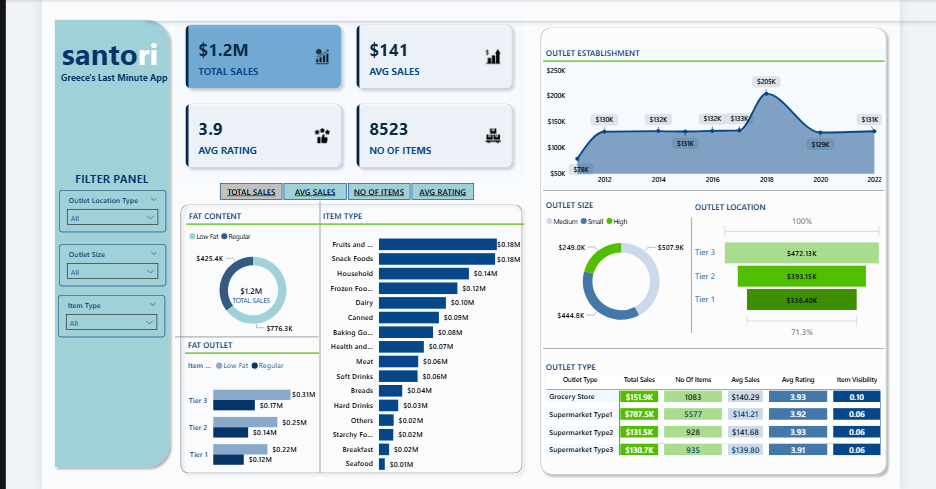

The page's visual inventory and layout, read from the dashboard file:
{"tool":"powerbi","page":{"name":"Page 1","canvas":[1400,800],"ordinal":0},"visuals":[{"type":"shape","box":[11.4,24.5,205.7,749.4],"z":0},{"type":"textbox","box":[27.8,50.6,189.4,75.1],"z":1000},{"type":"textbox","box":[264,24,206,749],"z":2000},{"type":"textbox","box":[26.1,112.7,207.3,32.7],"z":3000},{"type":"cardVisual","fields":{"Data":["BlinkIT Grocery Data.TOTAL SALES","BlinkIT Grocery Data.AVG SALES","BlinkIT Grocery Data.AVG RATING","BlinkIT Grocery Data.NO OF ITEMS"]},"box":[217.1,24.5,569.8,269.4],"z":4000},{"type":"shape","box":[804.9,37.6,582.9,747.8],"z":5000},{"type":"donutChart","title":"FAT CONTENT","fields":{"Y":["BlinkIT Grocery Data.TOTAL SALES"],"Category":["BlinkIT Grocery Data.Item Fat Content"]},"box":[235.1,344.5,218.8,210.6],"z":6000},{"type":"slicer","fields":{"Values":["Metrics.Metrics"]},"box":[264.5,293.9,465,40],"z":7000},{"type":"cardVisual","fields":{"Data":["BlinkIT Grocery Data.TOTAL SALES"]},"box":[279.2,419.6,125.7,98],"z":8000},{"type":"clusteredBarChart","title":"FAT OUTLET","fields":{"Y":["BlinkIT Grocery Data.TOTAL SALES"],"Category":["BlinkIT Grocery Data.Outlet Location Type"],"Series":["BlinkIT Grocery Data.Item Fat Content"]},"box":[233.5,555.1,218.8,230.2],"z":9000},{"type":"shape","box":[437.6,329.8,32.7,444.1],"z":10000},{"type":"barChart","title":"ITEM TYPE","fields":{"Y":["BlinkIT Grocery Data.TOTAL SALES"],"Category":["BlinkIT Grocery Data.Item Type"]},"box":[453.9,344.5,333.1,439.2],"z":11000},{"type":"lineChart","title":"OUTLET ESTABLISHMENT","fields":{"Category":["BlinkIT Grocery Data.Outlet Establishment Year"],"Y":["BlinkIT Grocery Data.TOTAL SALES"]},"box":[818,78.4,558.4,235.1],"z":12000},{"type":"shape","box":[818,287.3,558.4,50.6],"z":13000},{"type":"shape","box":[217.1,532.2,235.1,39.2],"z":14000},{"type":"donutChart","title":"OUTLET SIZE","fields":{"Y":["BlinkIT Grocery Data.TOTAL SALES"],"Category":["BlinkIT Grocery Data.Outlet Size"]},"box":[818,326.5,256.3,225.3],"z":15000},{"type":"shape","box":[1040,357.6,40.8,187.8],"z":16000},{"type":"funnel","title":"OUTLET LOCATION","fields":{"Y":["Sum(BlinkIT Grocery Data.Sales)"],"Category":["BlinkIT Grocery Data.Outlet Location Type"]},"box":[1061.2,329.8,315.1,228.6],"z":17000},{"type":"shape","box":[818,545.3,558.4,50.6],"z":18000},{"type":"shape","box":[217.1,326.5,576.3,457.1],"z":19000},{"type":"pivotTable","title":"OUTLET TYPE","fields":{"Values":["BlinkIT Grocery Data.TOTAL SALES","BlinkIT Grocery Data.NO OF ITEMS","BlinkIT Grocery Data.AVG SALES","BlinkIT Grocery Data.AVG RATING","Avg(BlinkIT Grocery Data.Item Visibility)"],"Rows":["BlinkIT Grocery Data.Outlet Type"]},"box":[818,591,558.4,194.3],"z":20000},{"type":"slicer","fields":{"Values":["BlinkIT Grocery Data.Outlet Location Type"]},"box":[27.8,311.8,174.7,68.6],"z":21000},{"type":"slicer","fields":{"Values":["BlinkIT Grocery Data.Outlet Size"]},"box":[27.8,400,174.7,68.6],"z":22000},{"type":"slicer","fields":{"Values":["BlinkIT Grocery Data.Item Type"]},"box":[26.1,483.3,174.7,68.6],"z":23000},{"type":"textbox","box":[27.8,275.9,173.1,35.9],"z":24000}]}

Visuals, with their boxes on the page's 1400x800 design canvas (x1, y1, x2, y2). These are canvas units, not pixel positions in the 936x489 screenshot, which may show the page scaled, cropped or inside an application window:
shape: <bbox>11, 24, 217, 774</bbox>
textbox: <bbox>28, 51, 217, 126</bbox>
textbox: <bbox>264, 24, 470, 773</bbox>
textbox: <bbox>26, 113, 233, 145</bbox>
cardVisual - BlinkIT Grocery Data.TOTAL SALES x BlinkIT Grocery Data.AVG SALES: <bbox>217, 24, 787, 294</bbox>
shape: <bbox>805, 38, 1388, 785</bbox>
"FAT CONTENT" donutChart: <bbox>235, 344, 454, 555</bbox>
slicer - Metrics.Metrics: <bbox>264, 294, 730, 334</bbox>
cardVisual - BlinkIT Grocery Data.TOTAL SALES: <bbox>279, 420, 405, 518</bbox>
"FAT OUTLET" clusteredBarChart: <bbox>234, 555, 452, 785</bbox>
shape: <bbox>438, 330, 470, 774</bbox>
"ITEM TYPE" barChart: <bbox>454, 344, 787, 784</bbox>
"OUTLET ESTABLISHMENT" lineChart: <bbox>818, 78, 1376, 314</bbox>
shape: <bbox>818, 287, 1376, 338</bbox>
shape: <bbox>217, 532, 452, 571</bbox>
"OUTLET SIZE" donutChart: <bbox>818, 326, 1074, 552</bbox>
shape: <bbox>1040, 358, 1081, 545</bbox>
"OUTLET LOCATION" funnel: <bbox>1061, 330, 1376, 558</bbox>
shape: <bbox>818, 545, 1376, 596</bbox>
shape: <bbox>217, 326, 793, 784</bbox>
"OUTLET TYPE" pivotTable: <bbox>818, 591, 1376, 785</bbox>
slicer - BlinkIT Grocery Data.Outlet Location Type: <bbox>28, 312, 202, 380</bbox>
slicer - BlinkIT Grocery Data.Outlet Size: <bbox>28, 400, 202, 469</bbox>
slicer - BlinkIT Grocery Data.Item Type: <bbox>26, 483, 201, 552</bbox>
textbox: <bbox>28, 276, 201, 312</bbox>
